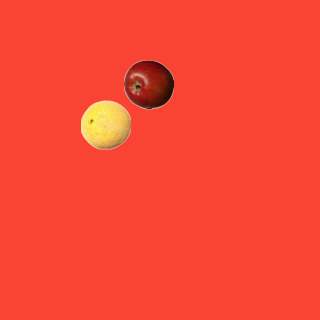Apple Braeburn: (123, 59, 173, 109)
Cantaloupe 1: (80, 99, 130, 149)
